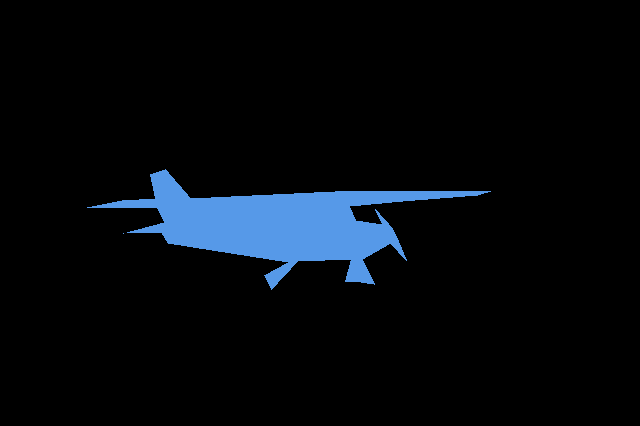Airplane: (87, 169, 490, 290)
